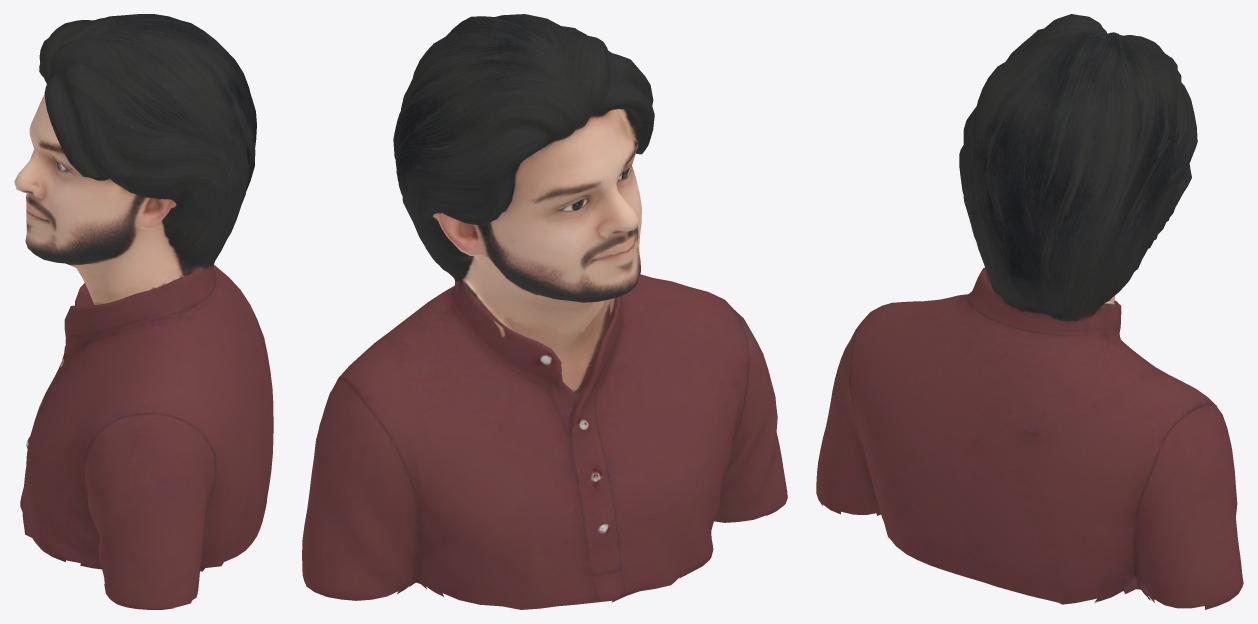
The model's file is animated_akshay.glb.
3 renders of one model, left to right at view 1: azimuth 30°, elevation 25°; view 2: azimuth 150°, elevation 25°; view 3: azimuth 270°, elevation 25°, orthographic. The views are drawn at different scales.
Parts seen in each view (by area): view 1: tripo_node_415cab02-8d75-4a72-8963-49ad67c993b0; view 2: tripo_node_415cab02-8d75-4a72-8963-49ad67c993b0; view 3: tripo_node_415cab02-8d75-4a72-8963-49ad67c993b0.
Part boxes in pixels (x1,y1,x2,y2): tripo_node_415cab02-8d75-4a72-8963-49ad67c993b0: (14, 14, 273, 609); tripo_node_415cab02-8d75-4a72-8963-49ad67c993b0: (302, 14, 787, 609); tripo_node_415cab02-8d75-4a72-8963-49ad67c993b0: (816, 14, 1243, 609).
Bounding box in the file's own units: 0.5339 × 0.9234 × 0.7033.
Materials: 1 (1 with a texture image).
